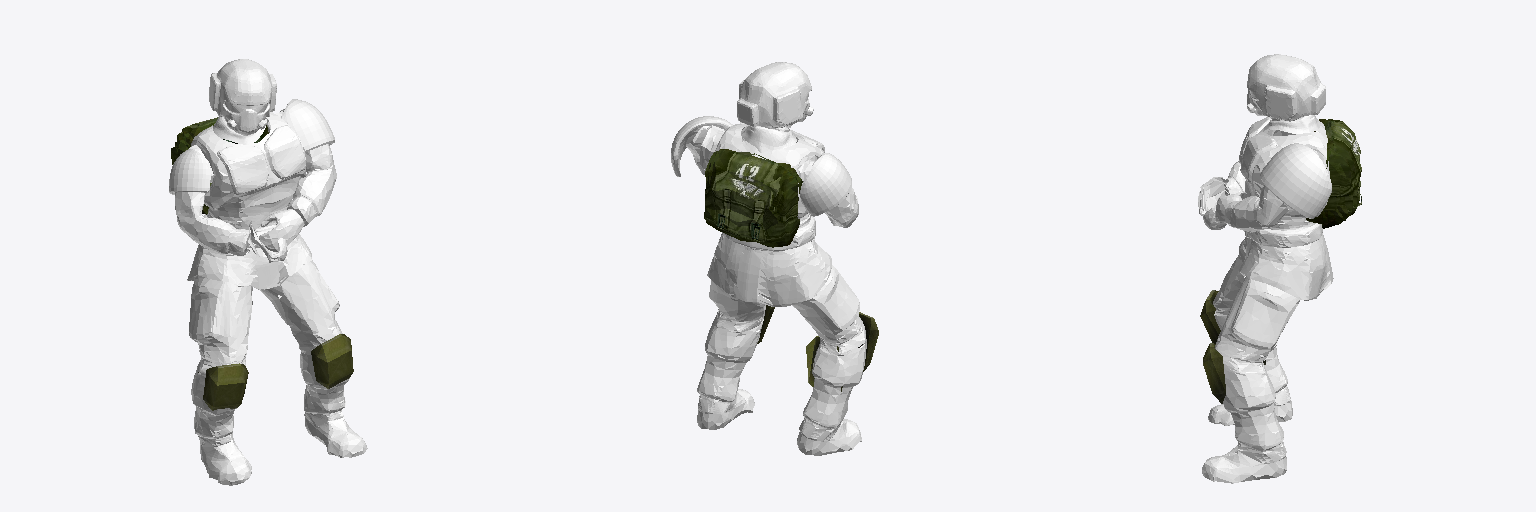
The picture shows the model from 3 angles: view 1: azimuth 30°, elevation 25°; view 2: azimuth 150°, elevation 25°; view 3: azimuth 270°, elevation 25°; orthographic projection.
Visible parts, largest first — view 1: Object.1; view 2: Object.1; view 3: Object.1.
Part boxes in pixels (left/top/right/bottom): Object.1: left=169, top=59, right=367, bottom=485; Object.1: left=671, top=62, right=878, bottom=455; Object.1: left=1198, top=54, right=1361, bottom=483.
Bounding box in the file's own units: 8.58 × 19.06 × 7.37.
8 materials, 2 textured.